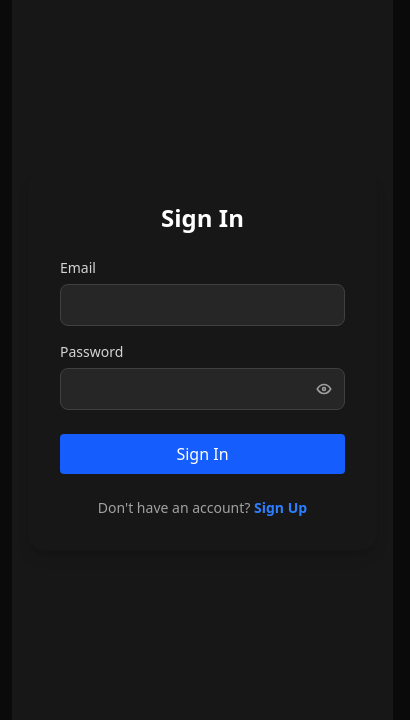
Test: while the submit is in flight the button is disabled and shows the pending label (REQ-09 AC1)
Type "coach@club.pt" into the field labelled "Email" at (202, 305), box [60, 284, 345, 326]
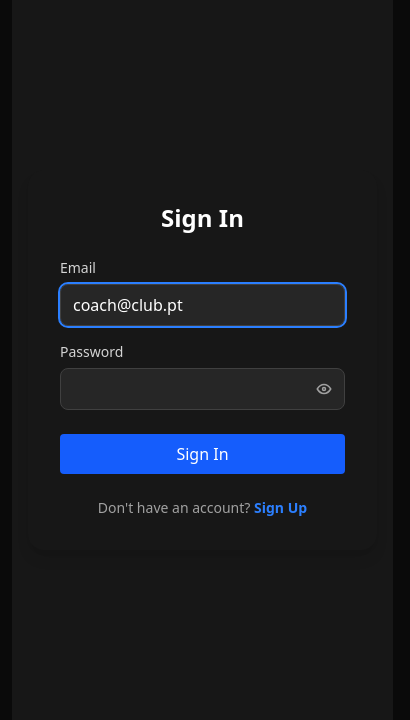
Type "secret" into the password field labelled "Password" at (202, 389), box [60, 368, 345, 410]
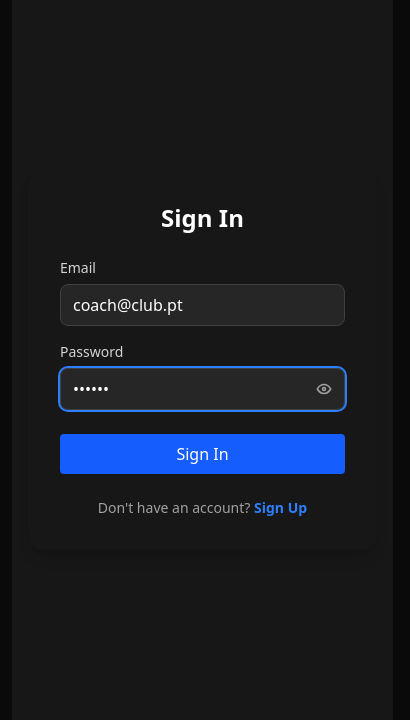
Click the button "Sign In" at (202, 454), box [60, 434, 345, 474]
(page scrolled)
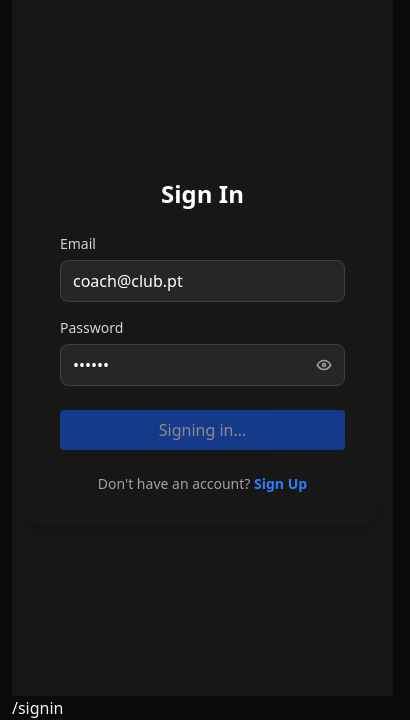
Expected: the text with test id "location" shows "/", [12, 697, 64, 719]
Expected: the button "Signing in…" is disabled, [60, 410, 345, 450]
